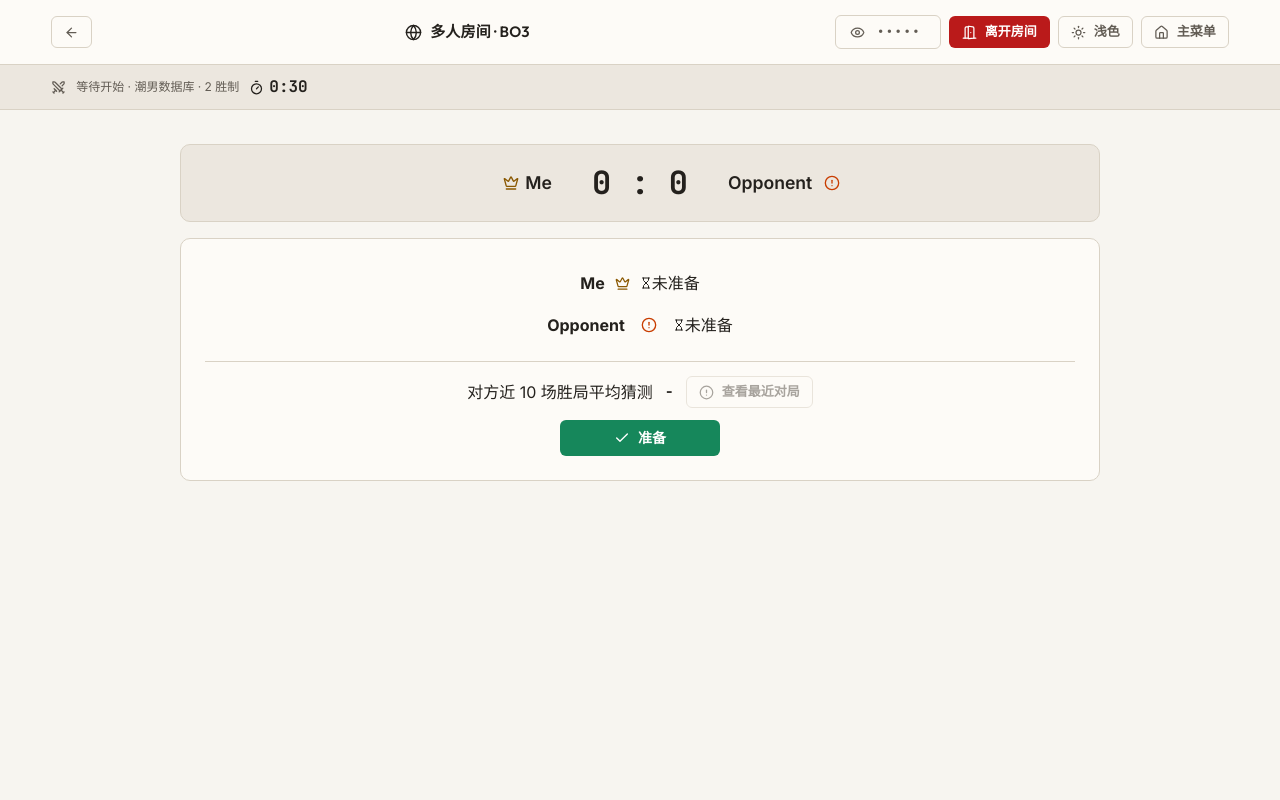
Test case: MultiRoom replay › warns before leaving a ready check and shows the returned cooldown in the lobby
The image size is (1280, 800).
Click the button "离开房间": (999, 32) [949,16,1050,48]
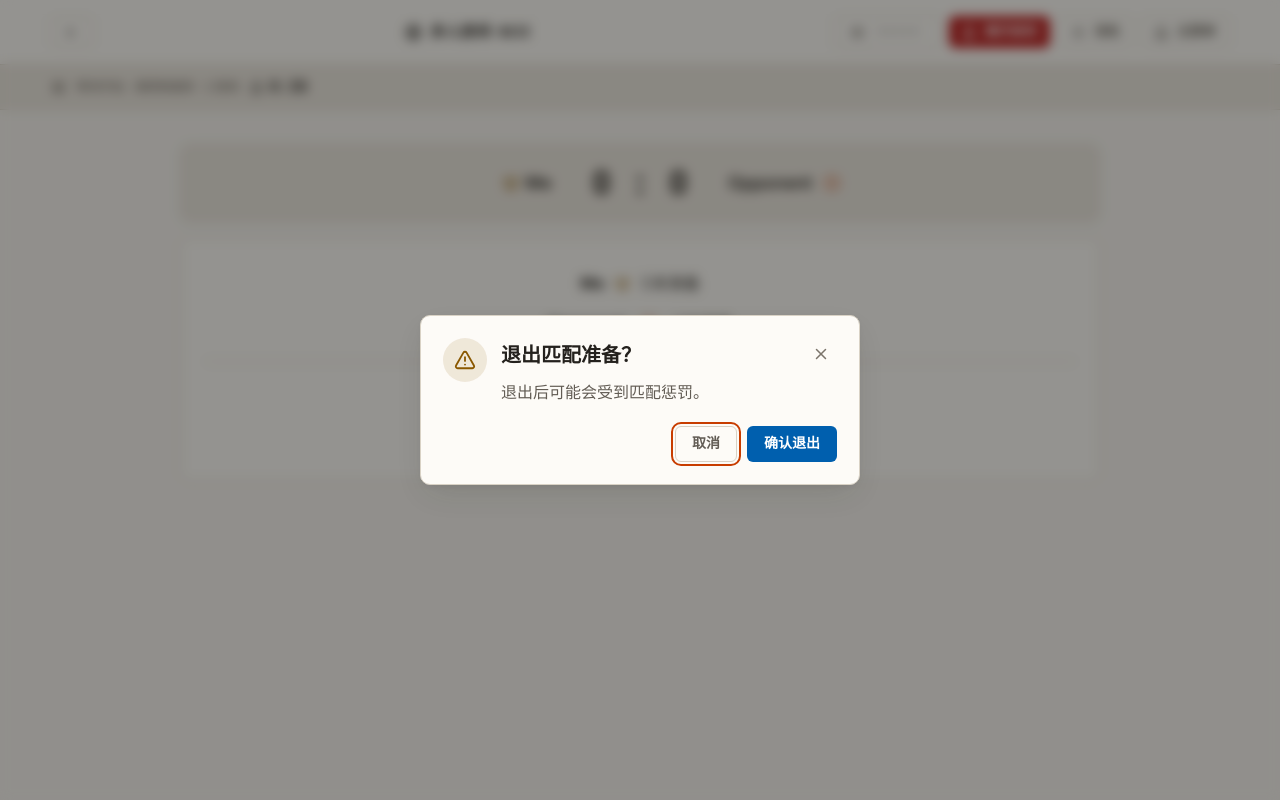
Expected: the dialog "退出匹配准备？" shows "退出后可能会受到匹配惩罚。", [501,382,709,402]
Click the button "确认退出": (792, 444) [747,426,837,462]
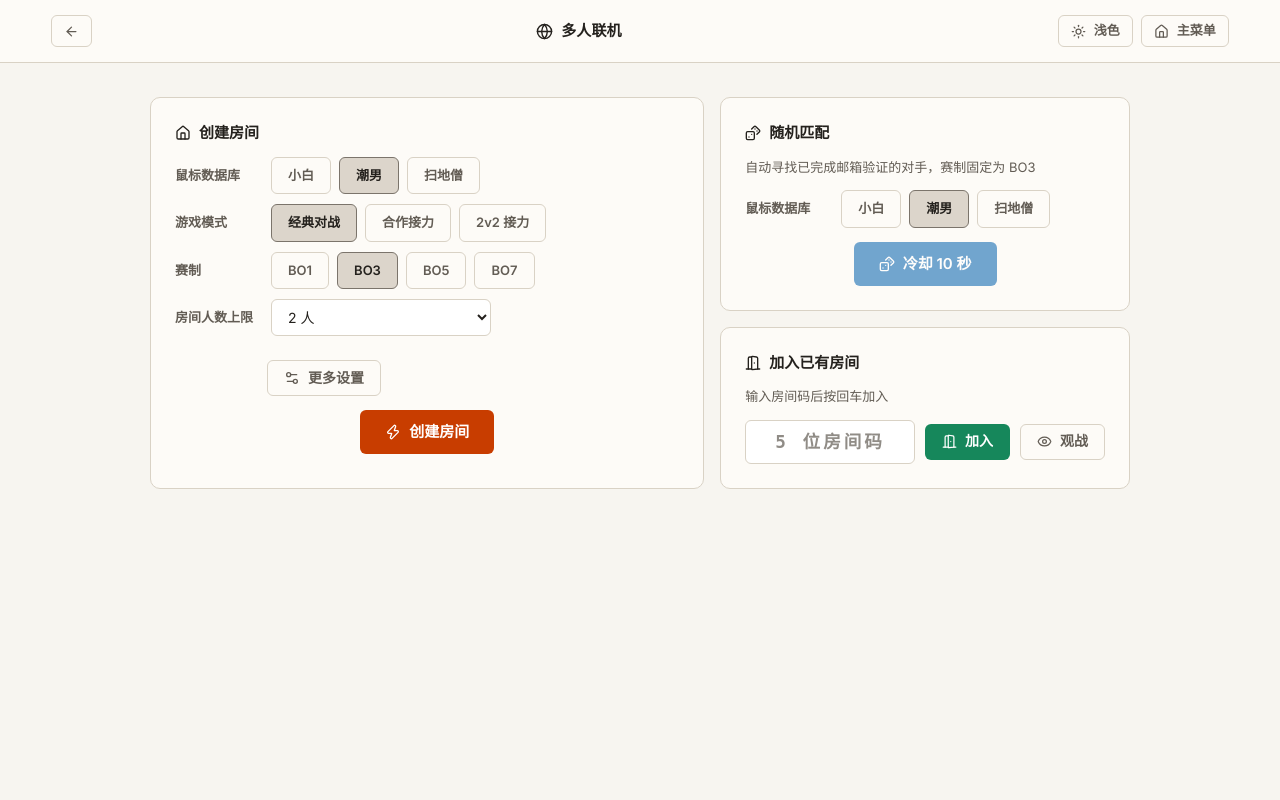
Expected: the button "冷却 10 秒" is disabled, [854,242,997,286]
